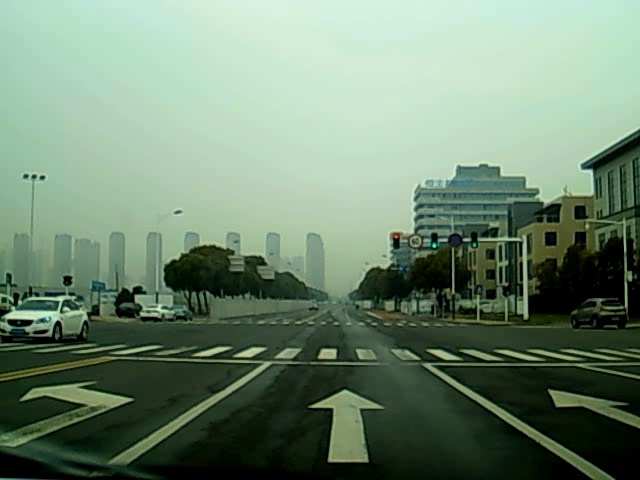Traffic_Light_go: (471, 233, 479, 251), (430, 231, 436, 248)
Traffic_Light_stop: (392, 232, 402, 250)
